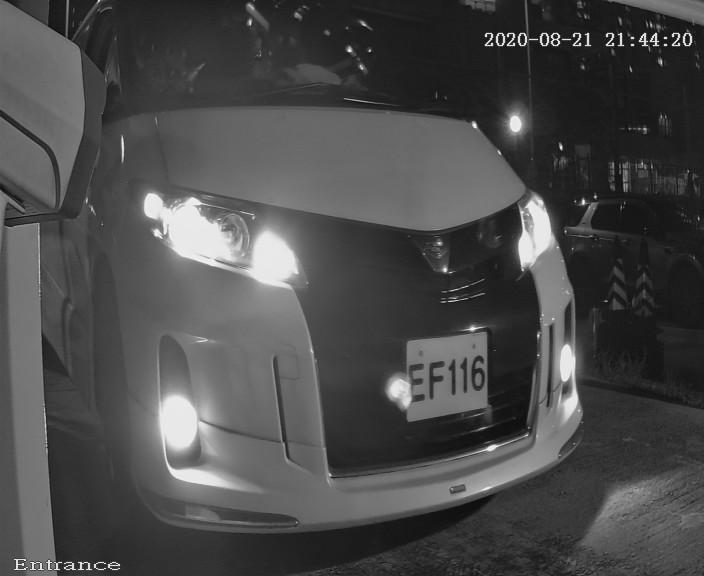License Plate: (381, 317, 500, 438)
